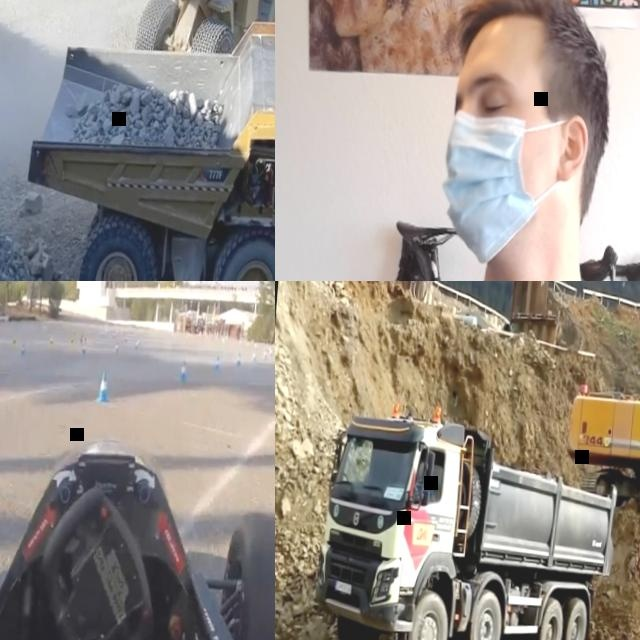Mask: (441, 103, 591, 265)
NO-Hardhat: (459, 0, 615, 90)
Person: (335, 0, 640, 281), (417, 462, 437, 498)
Safety Cone: (95, 364, 113, 405), (177, 355, 189, 385), (213, 350, 221, 375), (47, 334, 54, 350), (21, 341, 27, 359), (235, 351, 241, 366)
machinery: (11, 0, 275, 281), (309, 416, 620, 640), (559, 309, 640, 577), (75, 0, 275, 59)
vehicle: (0, 418, 275, 640)
